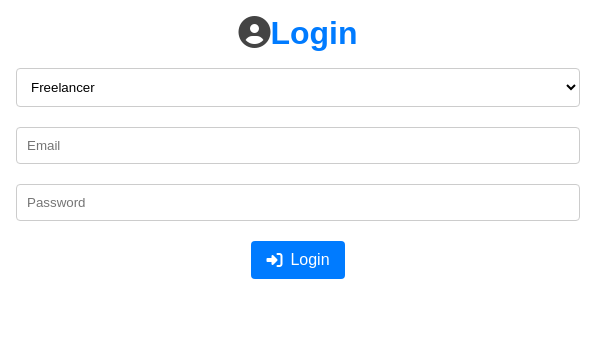
Login Component › validates that the password must meet criteria
Type "short" into the password field with placeholder "Password". click: (298, 202)
box: [16,184,580,220]
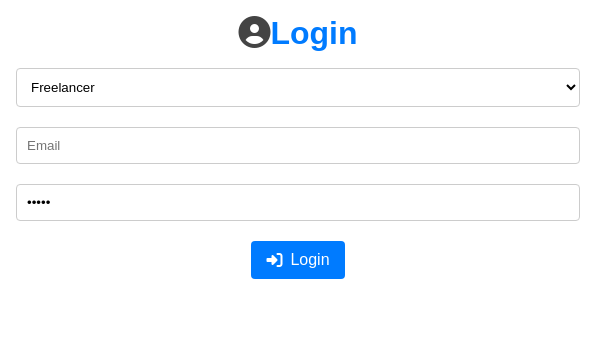
Click the button "Login". click: (298, 260)
box: [251,240,345,278]
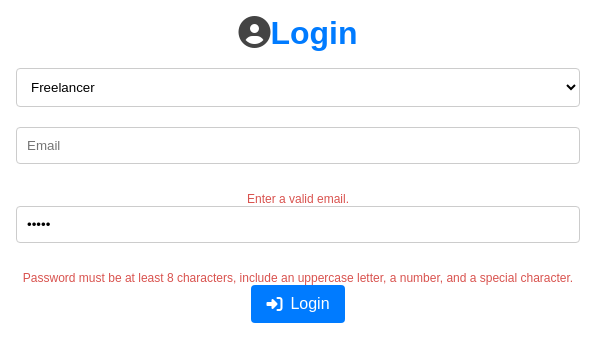
Check: the text "password must be at least 8 characters, include an uppercase letter, a number, and a special character" is shown, box [23,270,573,284]
